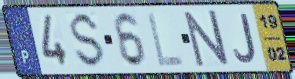4: (40, 13, 71, 70)
6: (112, 10, 149, 69)
J: (232, 11, 258, 64)
L: (145, 10, 186, 68)
N: (182, 8, 232, 69)
S: (69, 10, 107, 70)
